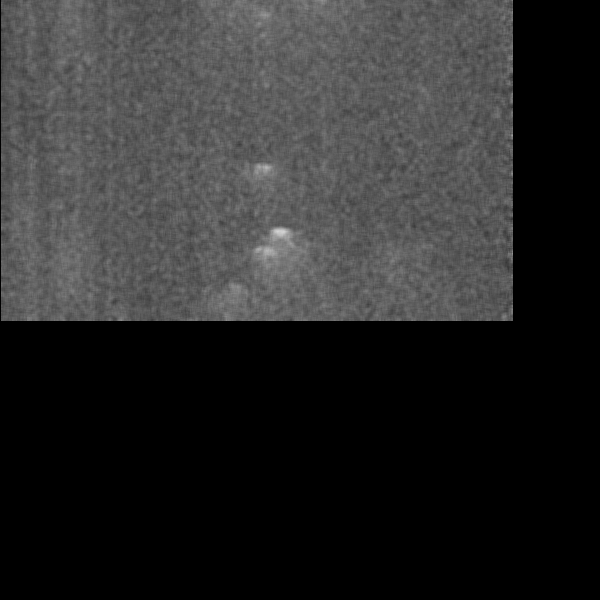spark: (259, 222, 303, 258), (246, 158, 280, 188), (224, 275, 247, 313), (247, 5, 278, 33)
